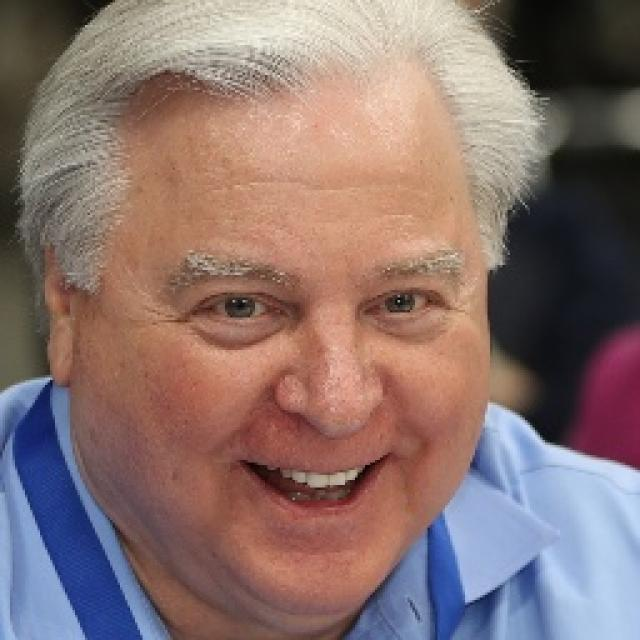earlobe: (41, 234, 77, 390)
